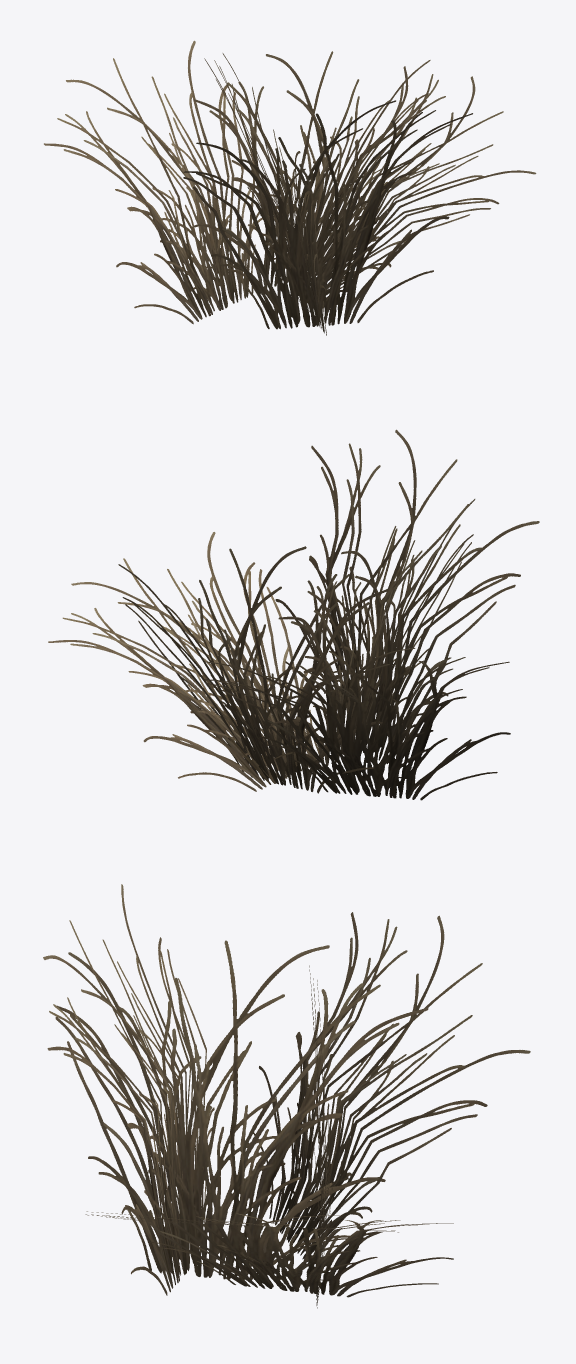
The model's file is Scene_Grass_ZaCao_3.FBX.
3 renders of one model, top to bottom at view 1: azimuth 30°, elevation 25°; view 2: azimuth 150°, elevation 25°; view 3: azimuth 270°, elevation 25°, orthographic. The views are drawn at different scales.
Parts seen in each view (by area): view 1: Scene_Grass_ZaCao_3; view 2: Scene_Grass_ZaCao_3; view 3: Scene_Grass_ZaCao_3.
Part boxes in pixels (bbox=[...]): Scene_Grass_ZaCao_3: bbox=[44, 40, 536, 335]; Scene_Grass_ZaCao_3: bbox=[48, 429, 539, 800]; Scene_Grass_ZaCao_3: bbox=[43, 884, 530, 1308].
Bounding box in the file's own units: 98.82 × 56.1 × 82.52.
